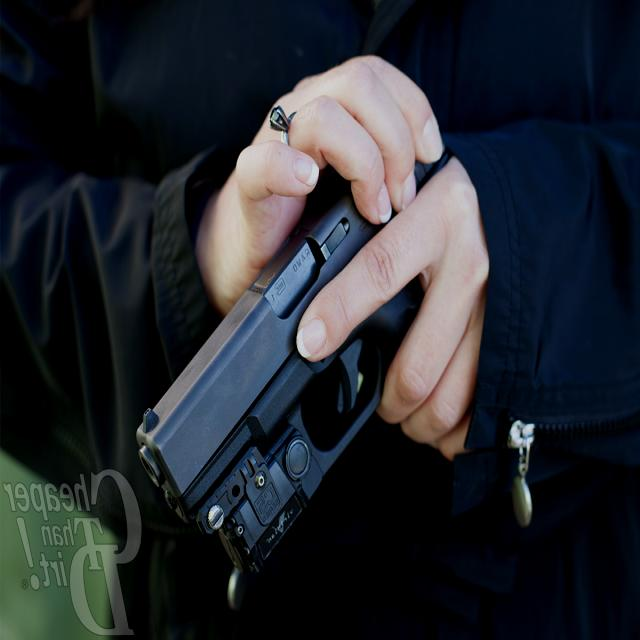pistol: (144, 122, 467, 604)
